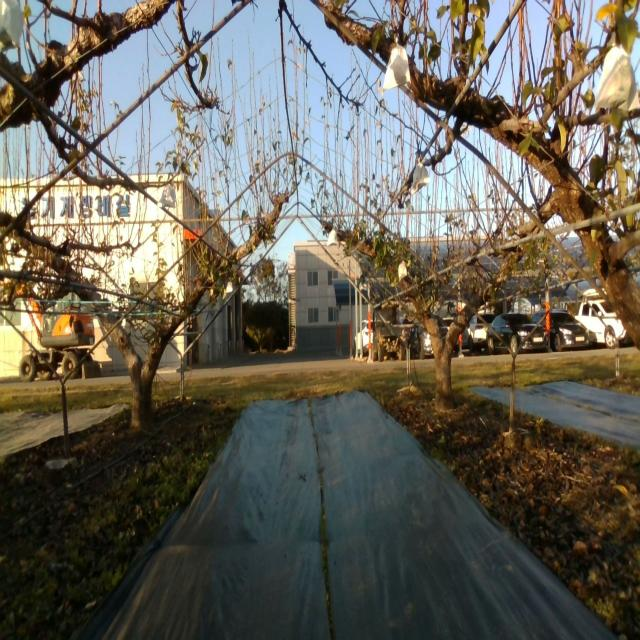pearbags: (592, 45, 640, 112), (382, 36, 412, 92), (0, 0, 23, 56), (410, 161, 430, 195), (156, 180, 176, 209), (326, 229, 339, 247)
